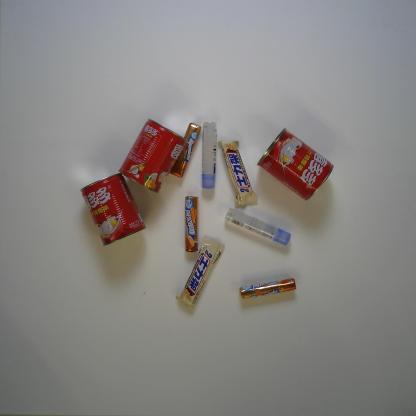Candy: (169, 122, 202, 178), (239, 277, 297, 299), (184, 195, 199, 253)
Canned Food: (256, 127, 335, 201), (118, 118, 187, 194), (79, 172, 147, 248)
Chocolate: (175, 235, 225, 309), (220, 139, 257, 205)
Stationery: (225, 207, 291, 246), (201, 121, 217, 189)
